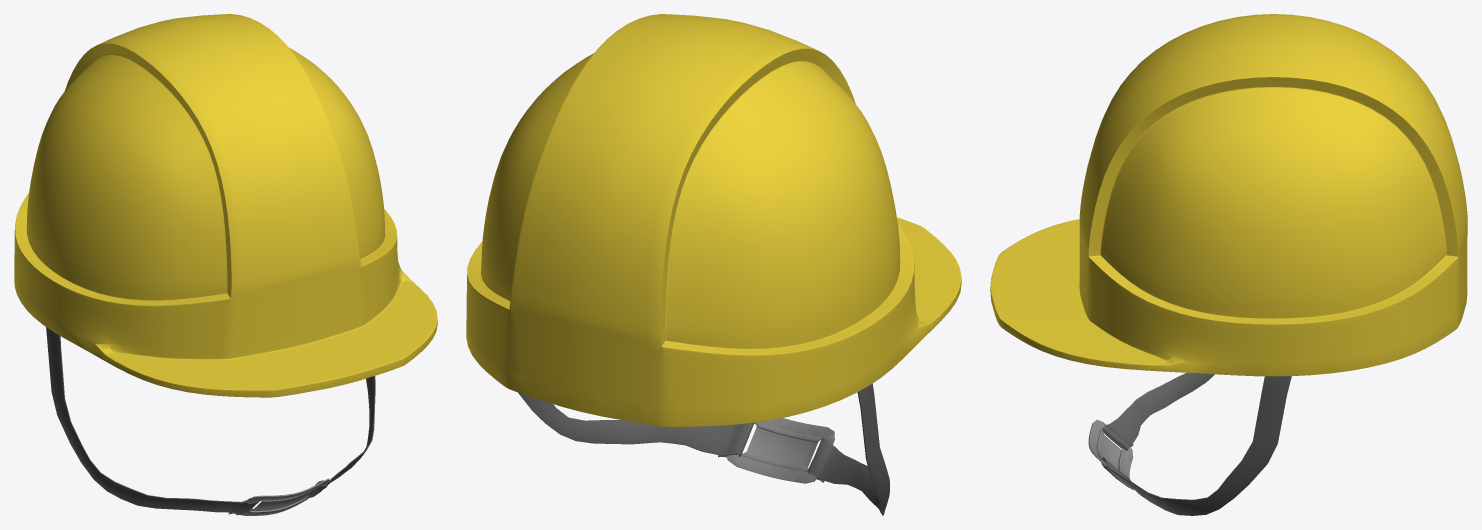
File: construction_helmet.glb
3 views of the same model, side by side, from view 1: azimuth 30°, elevation 25°; view 2: azimuth 150°, elevation 25°; view 3: azimuth 270°, elevation 25° (orthographic). The views are drawn at different scales.
Visible parts, largest first — view 1: Plane; view 2: Plane; view 3: Plane.
Boxes of the visible parts, left/top/right/bottom form: Plane: left=14, top=14, right=437, bottom=515; Plane: left=466, top=14, right=961, bottom=515; Plane: left=990, top=14, right=1467, bottom=515.
Bounding box in the file's own units: 1.31 × 1.64 × 1.61.
